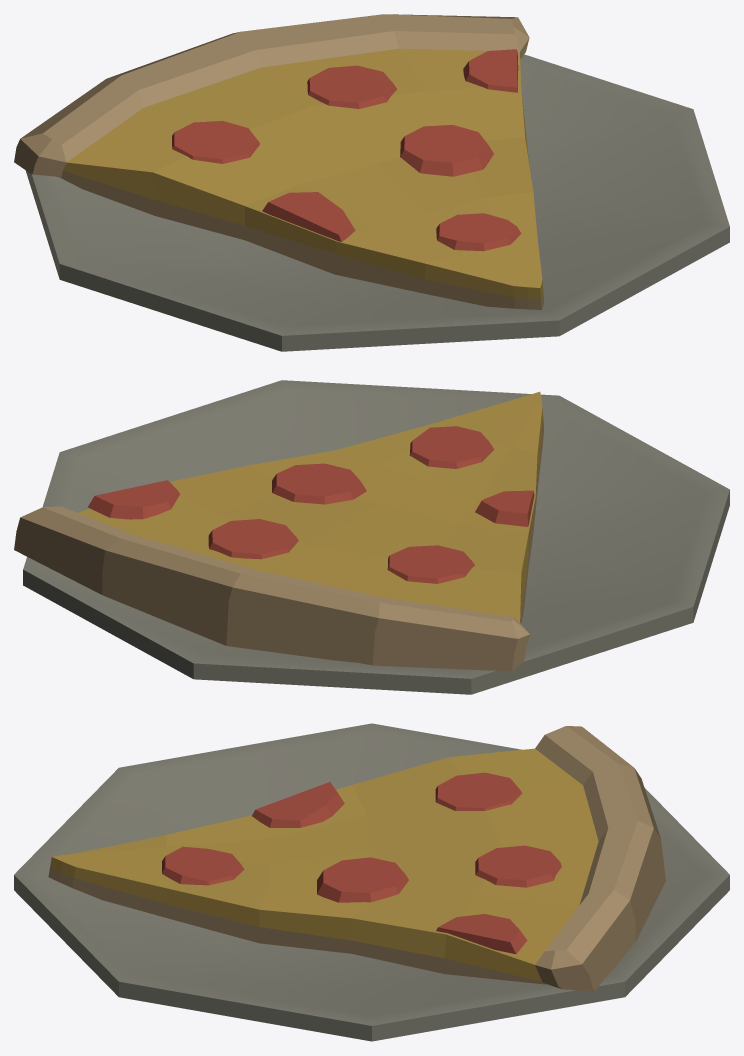
File: pizzaslice on plate.fbx
3 views of the same model, one above another, from view 1: azimuth 30°, elevation 25°; view 2: azimuth 150°, elevation 25°; view 3: azimuth 270°, elevation 25° (orthographic). The views are drawn at different scales.
Parts seen in each view (by area): view 1: Pizza_Slice_plate; view 2: Pizza_Slice_plate; view 3: Pizza_Slice_plate.
Part boxes in pixels (box(x1,y1,x2,y2)): Pizza_Slice_plate: box(14, 14, 729, 351); Pizza_Slice_plate: box(14, 380, 729, 694); Pizza_Slice_plate: box(14, 723, 729, 1041).
Bounding box in the file's own units: 18.9 × 2.9 × 18.9.
